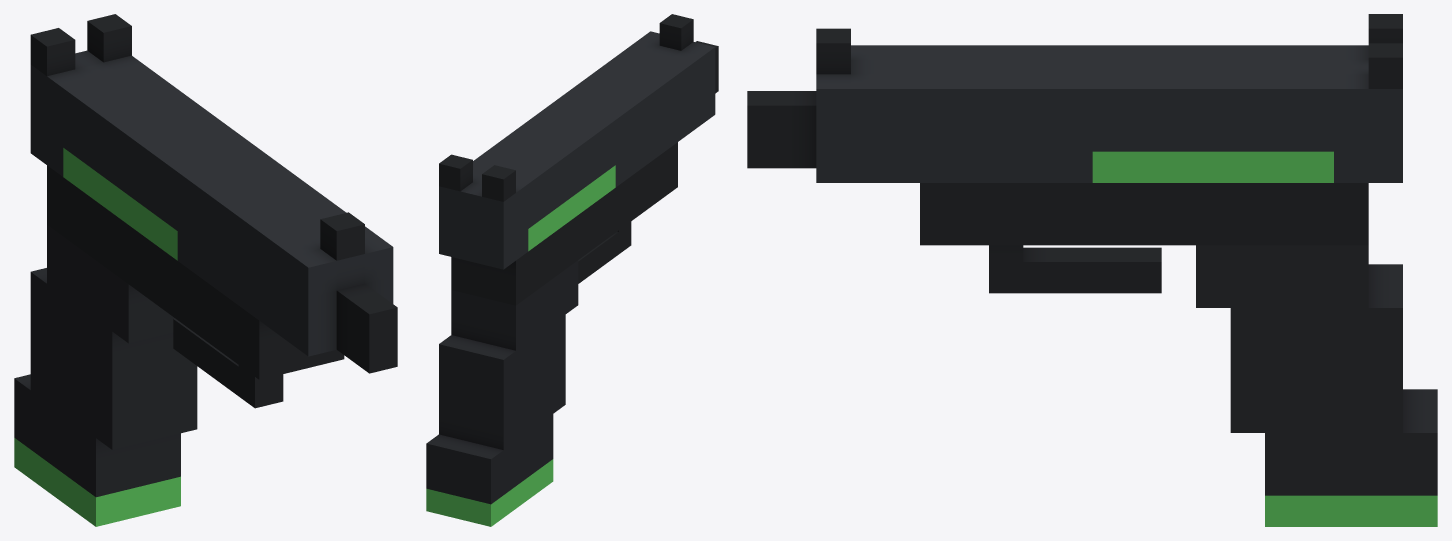
The model's file is plinker_uncommon.glb.
3 views of the same model, side by side, from view 1: azimuth 30°, elevation 25°; view 2: azimuth 150°, elevation 25°; view 3: azimuth 270°, elevation 25° (orthographic). The views are drawn at different scales.
Visible parts, largest first — view 1: plinker_uncommon_body; view 2: plinker_uncommon_body; view 3: plinker_uncommon_body.
Boxes of the visible parts, bbox=[...] form: plinker_uncommon_body: bbox=[14, 14, 397, 526]; plinker_uncommon_body: bbox=[426, 14, 718, 526]; plinker_uncommon_body: bbox=[747, 14, 1437, 526].
Bounding box in the file's own units: 0.1172 × 0.5859 × 0.7812.
1 material, 1 textured.
